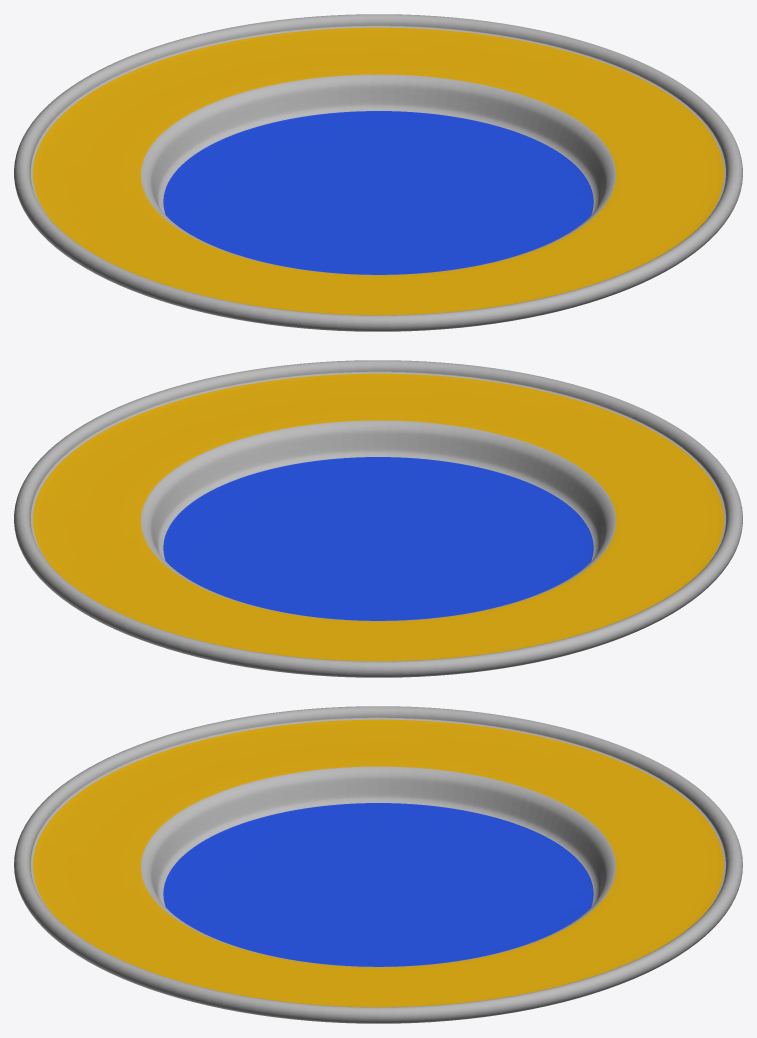
The model's file is eredivisie scale.fbx.
The picture shows the model from 3 angles, top to bottom: view 1: azimuth 30°, elevation 25°; view 2: azimuth 150°, elevation 25°; view 3: azimuth 270°, elevation 25°; orthographic projection.
Visible parts, largest first — view 1: scale; view 2: scale; view 3: scale.
Boxes of the visible parts, left/top/right/bottom form: scale: left=14, top=14, right=742, bottom=331; scale: left=14, top=360, right=742, bottom=677; scale: left=14, top=706, right=742, bottom=1023.
Size of the model in its own units: 107 by 8.47 by 107.
